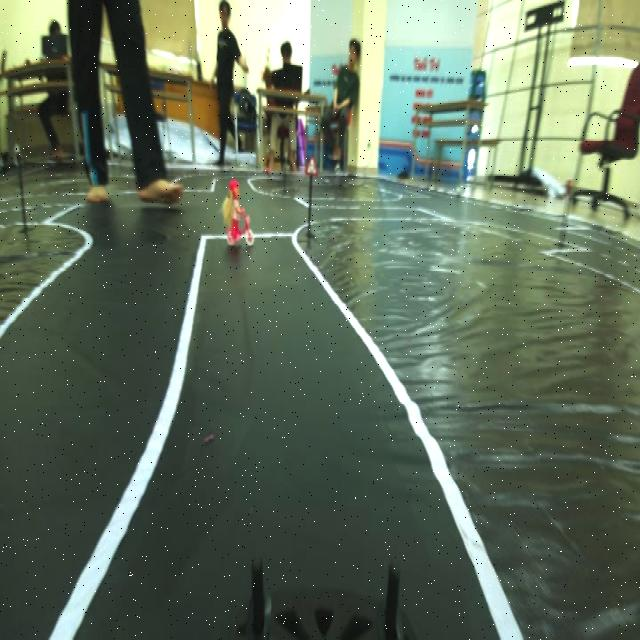pedestrian: (219, 184, 255, 252)
